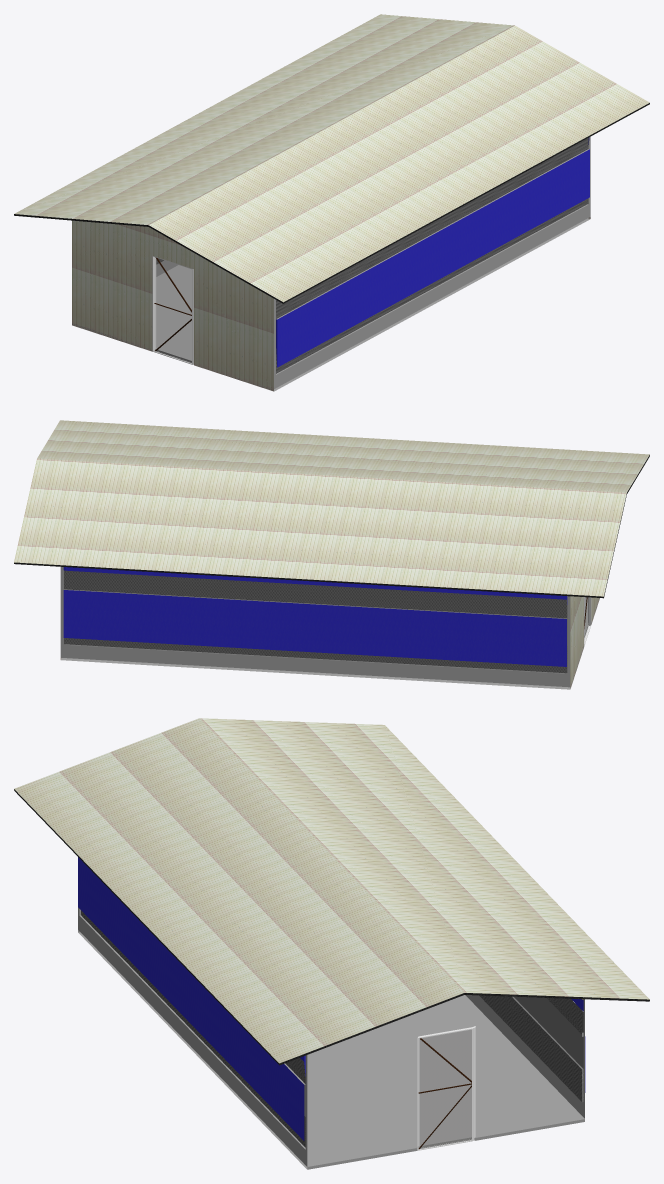
3 views of the same model, one above another, from view 1: azimuth 30°, elevation 25°; view 2: azimuth 150°, elevation 25°; view 3: azimuth 270°, elevation 25° (orthographic). The views are drawn at different scales.
Parts seen in each view (by area): view 1: S棟; view 2: S棟; view 3: S棟.
Boxes of the visible parts, box(x1,y1,x2,y2) form: S棟: box(14, 14, 649, 391); S棟: box(14, 420, 649, 689); S棟: box(14, 718, 649, 1169).
Size of the model in its own units: 12.88 by 3.05 by 10.22.
9 materials, 5 textured.
